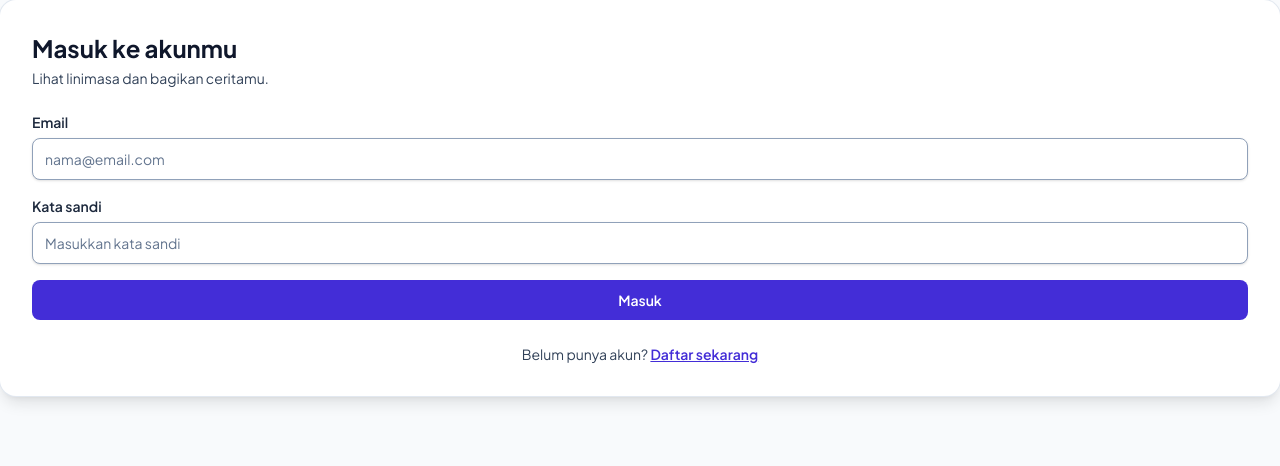
it: LoginPage › should show validation errors when submitting empty form
Click the button "Masuk" at [640, 300], box [32,280,1248,320]
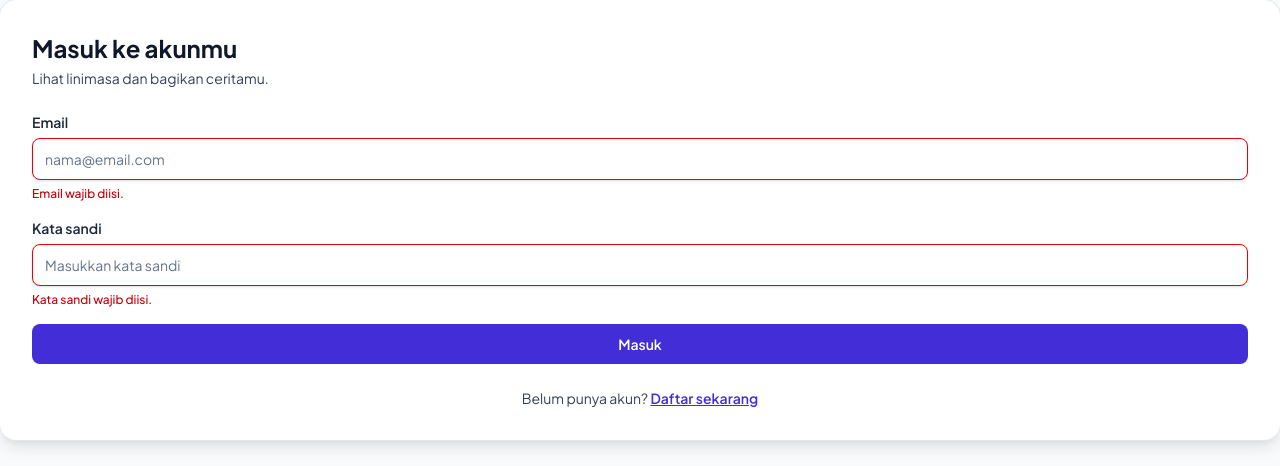
expect the text "Email wajib diisi." is shown: met, box [32,186,124,201]
expect the text "Kata sandi wajib diisi." is shown: met, box [32,292,152,307]
